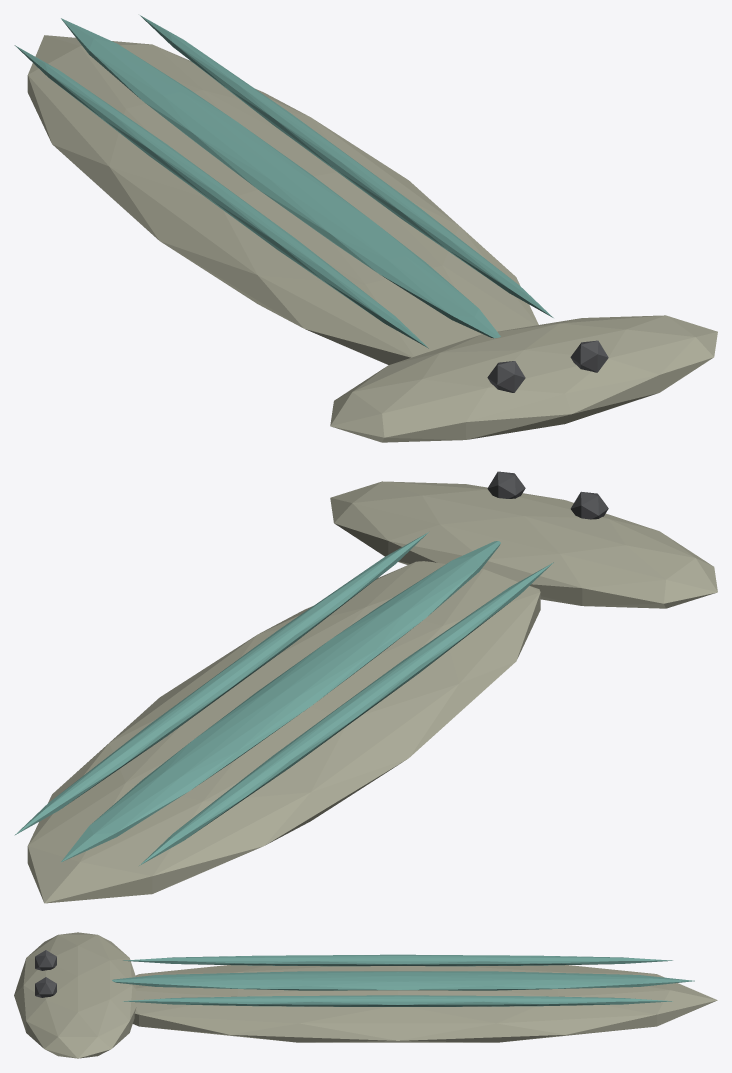
The model's file is dolichoplana-striata.glb.
3 views of the same model, one above another, from view 1: azimuth 30°, elevation 25°; view 2: azimuth 150°, elevation 25°; view 3: azimuth 270°, elevation 25° (orthographic). The views are drawn at different scales.
Visible parts, largest first — view 1: body, headfan, stripe, stripe2, stripe3, eye-1, eye1; view 2: body, headfan, stripe, stripe3, stripe2, eye-1, eye1; view 3: body, headfan, stripe, stripe2, stripe3, eye1, eye-1.
Part boxes in pixels (x1,y1,x2,y2): body: (27,35,538,364); headfan: (330,315,717,442); stripe: (61,18,500,338); stripe2: (140,15,553,317); stripe3: (14,45,428,348); eye-1: (487,361,525,392); eye1: (570,340,608,372); body: (27,561,540,903); headfan: (330,481,717,608); stripe: (61,541,500,862); stripe3: (139,562,553,865); stripe2: (14,532,428,835); eye-1: (570,491,608,519); eye1: (487,471,525,498); body: (133,965,717,1042); headfan: (14,932,136,1058); stripe: (112,971,694,990); stripe2: (123,995,672,1006); stripe3: (123,954,672,966); eye1: (35,977,56,997); eye-1: (35,950,56,970).
Size of the model in its own units: 0.28 by 0.0552 by 0.66.
